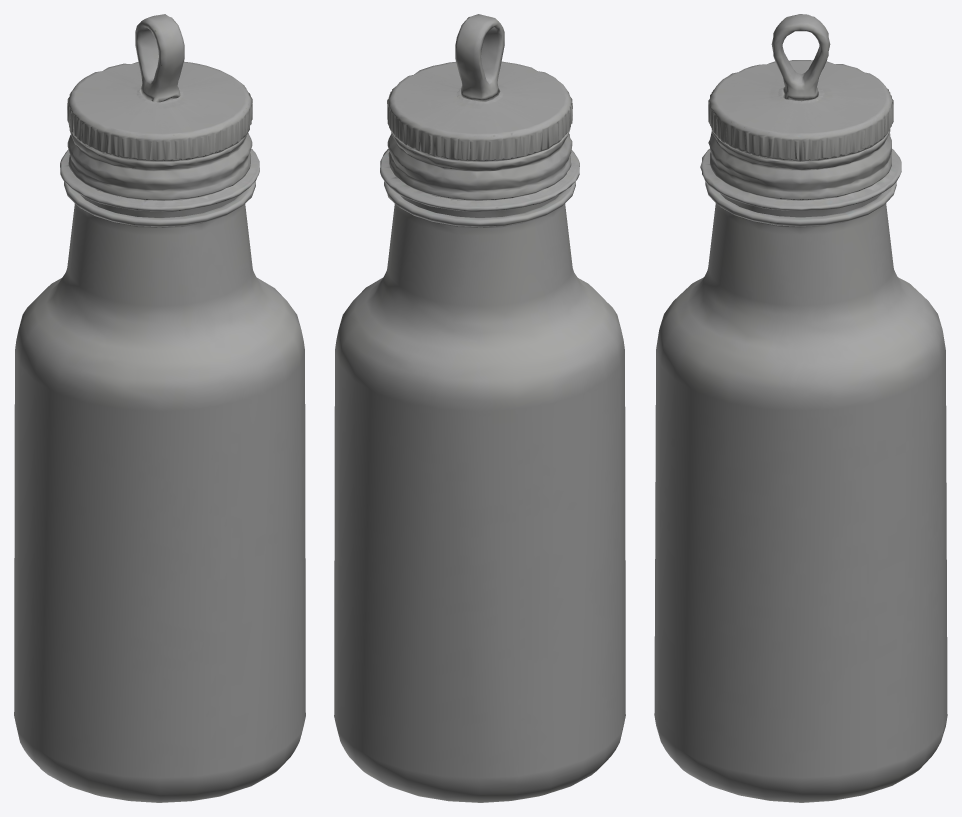
File: bottle-shell.glb
3 renders of one model, left to right at view 1: azimuth 30°, elevation 25°; view 2: azimuth 150°, elevation 25°; view 3: azimuth 270°, elevation 25°, orthographic.
Visible parts, largest first — view 1: tripo_node_c03b30c0-2260-4ac0-a2df-0864e1f9863a; view 2: tripo_node_c03b30c0-2260-4ac0-a2df-0864e1f9863a; view 3: tripo_node_c03b30c0-2260-4ac0-a2df-0864e1f9863a.
Boxes of the visible parts, box(x1,y1,x2,y2) form: tripo_node_c03b30c0-2260-4ac0-a2df-0864e1f9863a: box(14, 14, 305, 802); tripo_node_c03b30c0-2260-4ac0-a2df-0864e1f9863a: box(334, 14, 625, 802); tripo_node_c03b30c0-2260-4ac0-a2df-0864e1f9863a: box(654, 14, 947, 802).
Bounding box in the file's own units: 0.0724 × 0.2 × 0.0724.
Materials: 1 (1 with a texture image).
